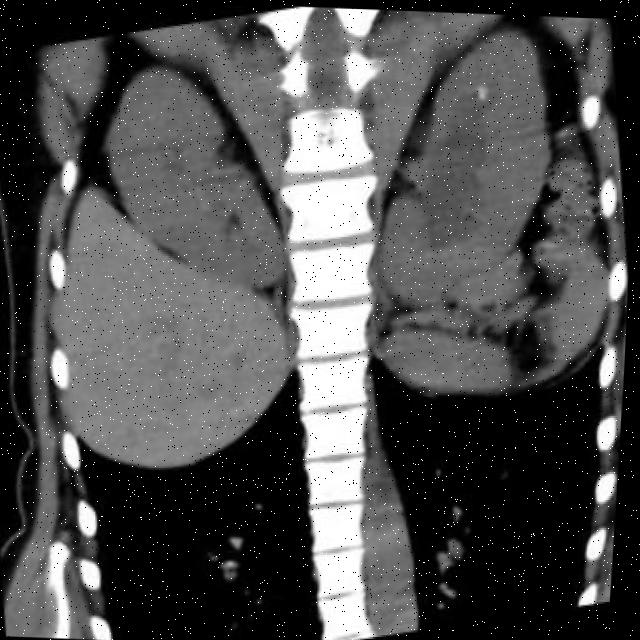Tas_Var: (471, 74, 492, 105)
